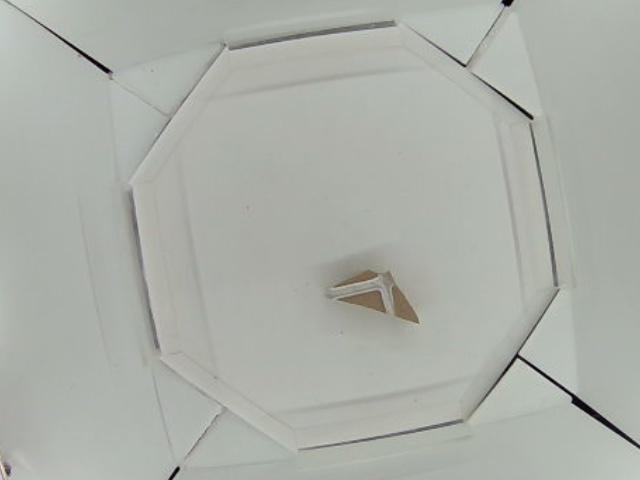China: (327, 272, 421, 325)
